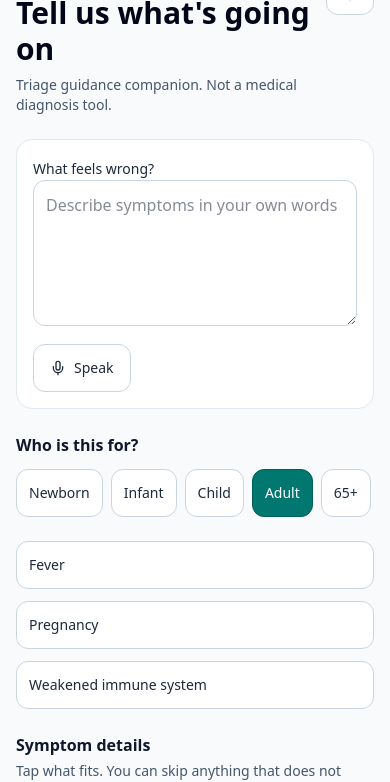
Test: IntakeCanvas consumer flow › requires consent before submitting triage
In the text box labelled "What feels wrong?": {"x": 195, "y": 253} top-left (33, 180), bottom-right (357, 326), type "mild cough for two days"
(page scrolled)
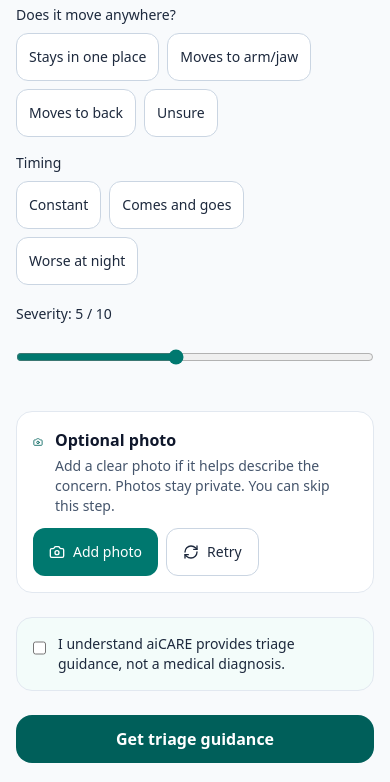
Click the button "Get triage guidance": {"x": 195, "y": 739} top-left (16, 715), bottom-right (374, 763)
(page scrolled)
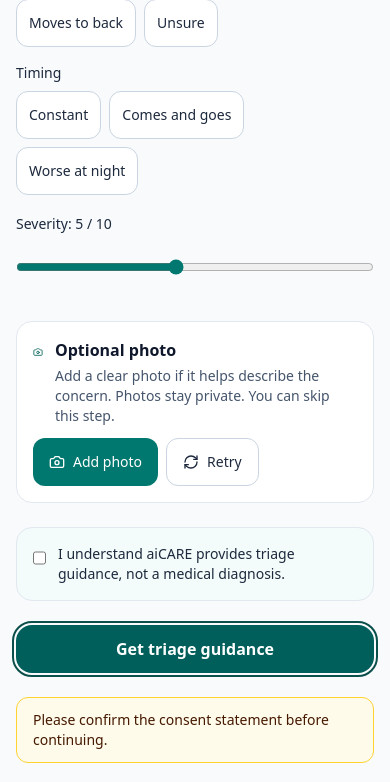
Now the message shows "confirm the consent statement", box top-left (33, 710), bottom-right (329, 749)
